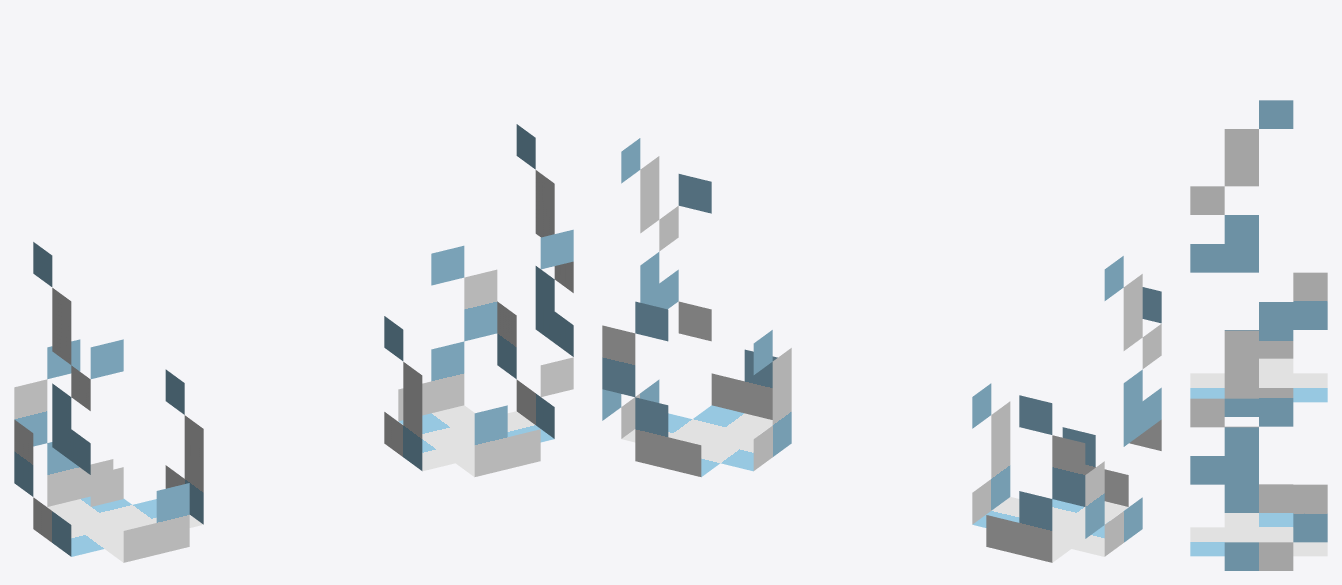
Rendered from sl_lightning_arms.glb.
The picture shows the model from 3 angles, left to right: view 1: azimuth 30°, elevation 25°; view 2: azimuth 150°, elevation 25°; view 3: azimuth 270°, elevation 25°; orthographic projection. The views are drawn at different scales.
Parts seen in each view (by area): view 1: bb_lightning_arms; view 2: bb_lightning_arms; view 3: bb_lightning_arms.
Boxes of the visible parts, box(x1,y1,x2,y2) form: bb_lightning_arms: box(14, 124, 573, 562); bb_lightning_arms: box(602, 138, 1161, 562); bb_lightning_arms: box(1190, 100, 1327, 570).
Size of the model in its own units: 1.03 by 0.7825 by 0.2825.
Materials: 1 (1 with a texture image).
